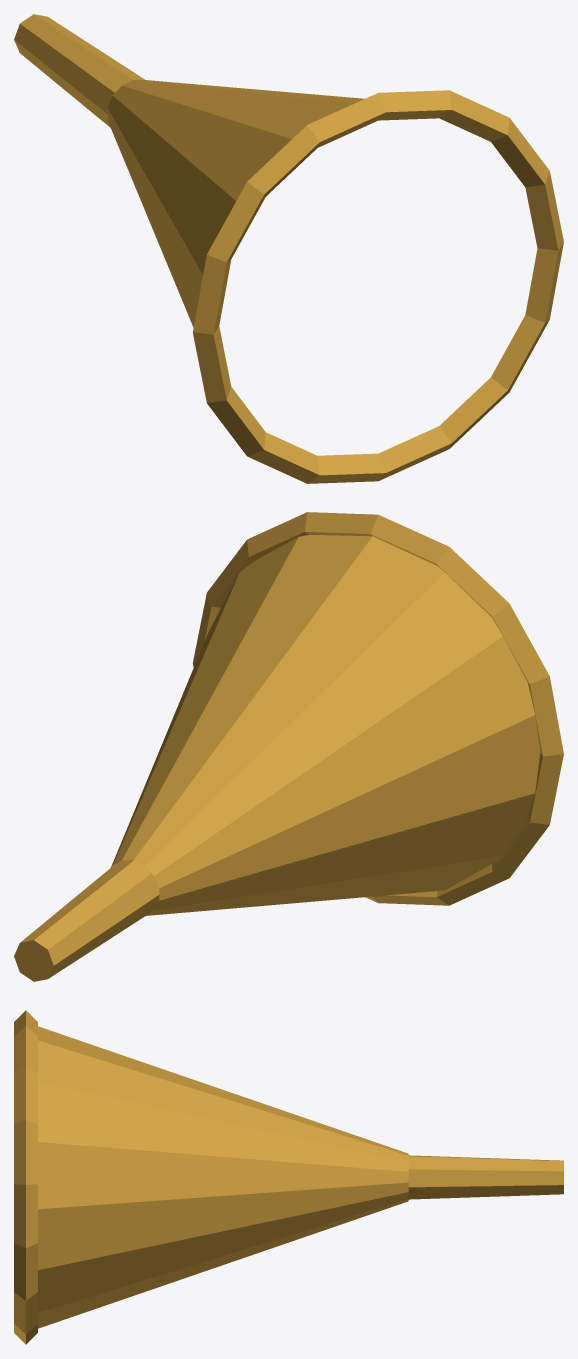
Rendered from ear_trumpet.glb.
3 renders of one model, top to bottom at view 1: azimuth 30°, elevation 25°; view 2: azimuth 150°, elevation 25°; view 3: azimuth 270°, elevation 25°, orthographic. The views are drawn at different scales.
Visible parts, largest first — view 1: trumpet_trumpet_brass; view 2: trumpet_trumpet_brass; view 3: trumpet_trumpet_brass.
Boxes of the visible parts, x1,y1,x2,y2 form: trumpet_trumpet_brass: (14, 14, 563, 483); trumpet_trumpet_brass: (14, 512, 563, 981); trumpet_trumpet_brass: (14, 1010, 563, 1344).
Size of the model in its own units: 0.28 by 0.28 by 0.46.
